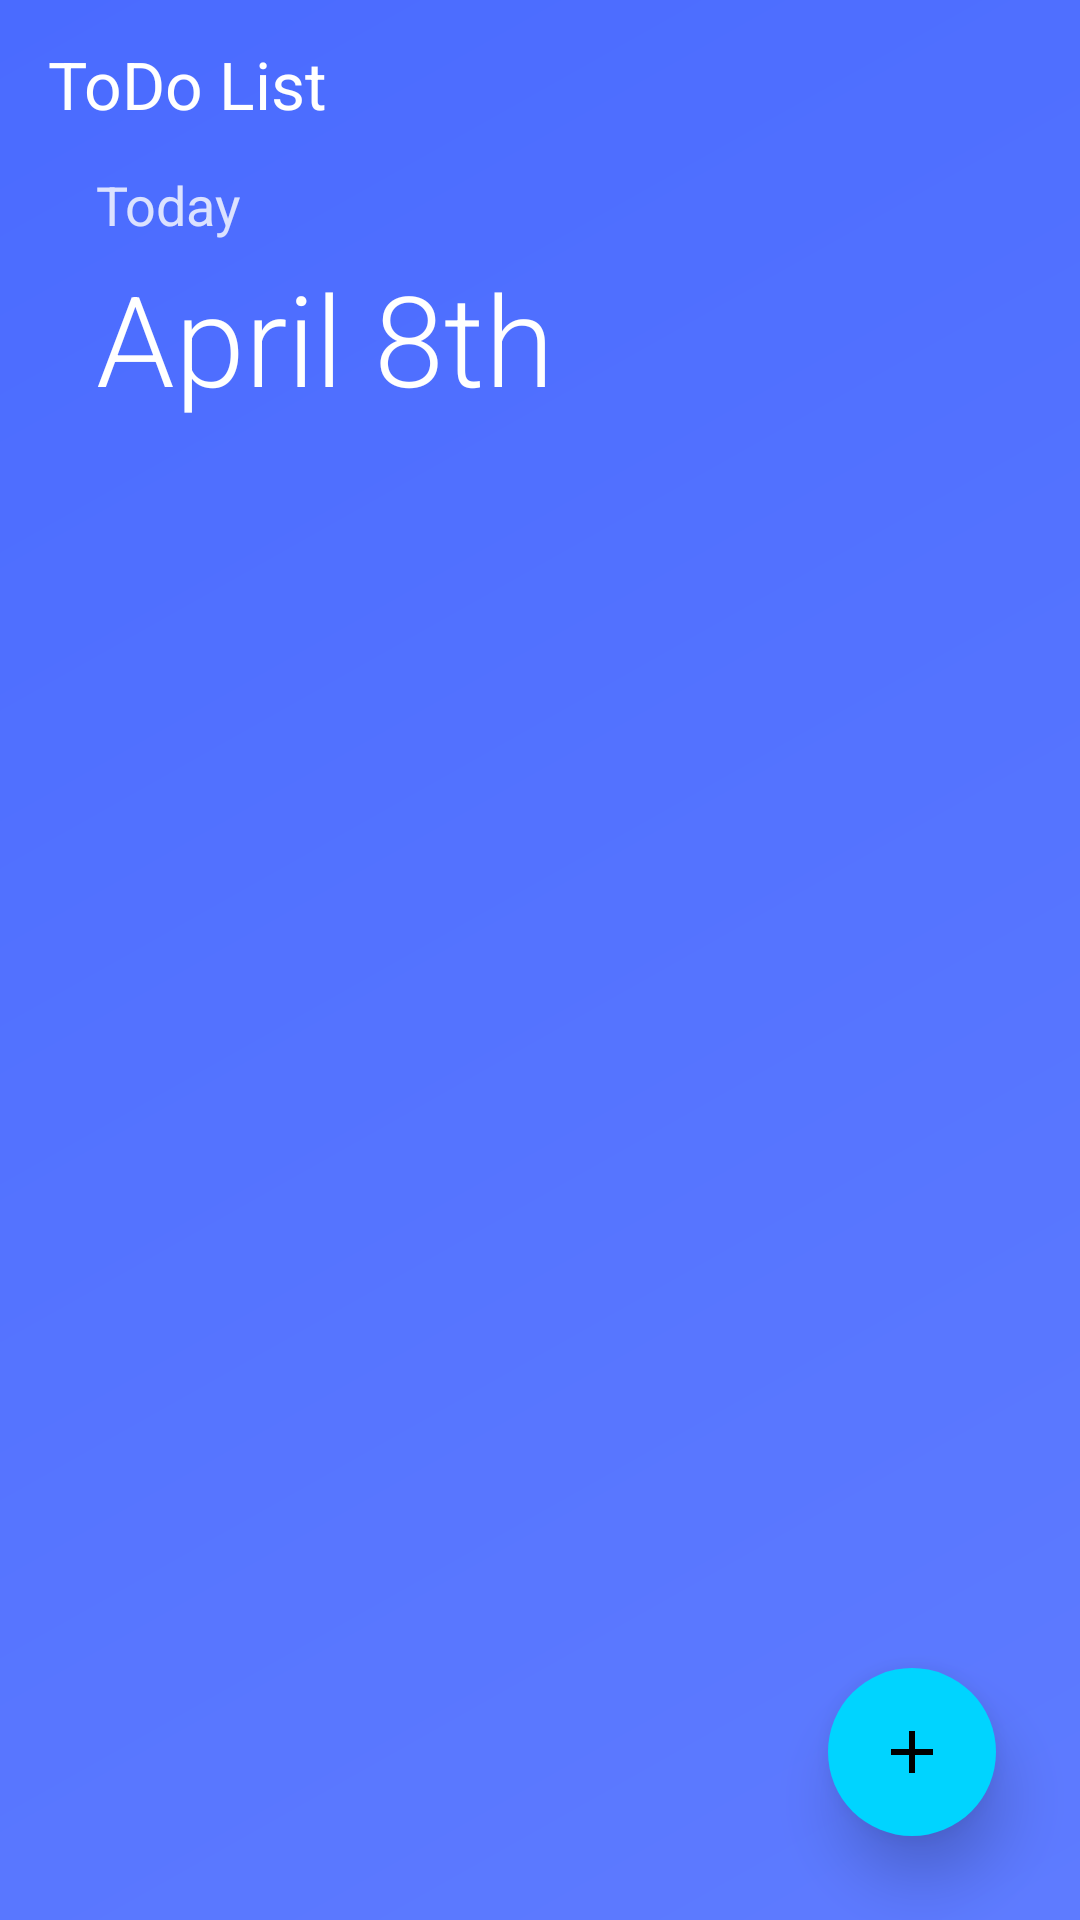

Screen size 1080px x 1920px. Icon name, then its center in pixels as (x=x, y=y):
Add Task: (x=912, y=1752)
